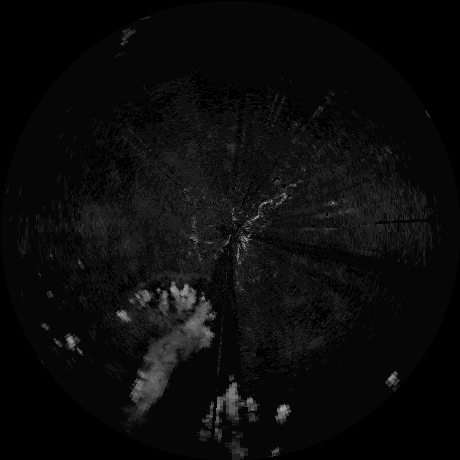frontgust: (141, 269, 216, 283)
